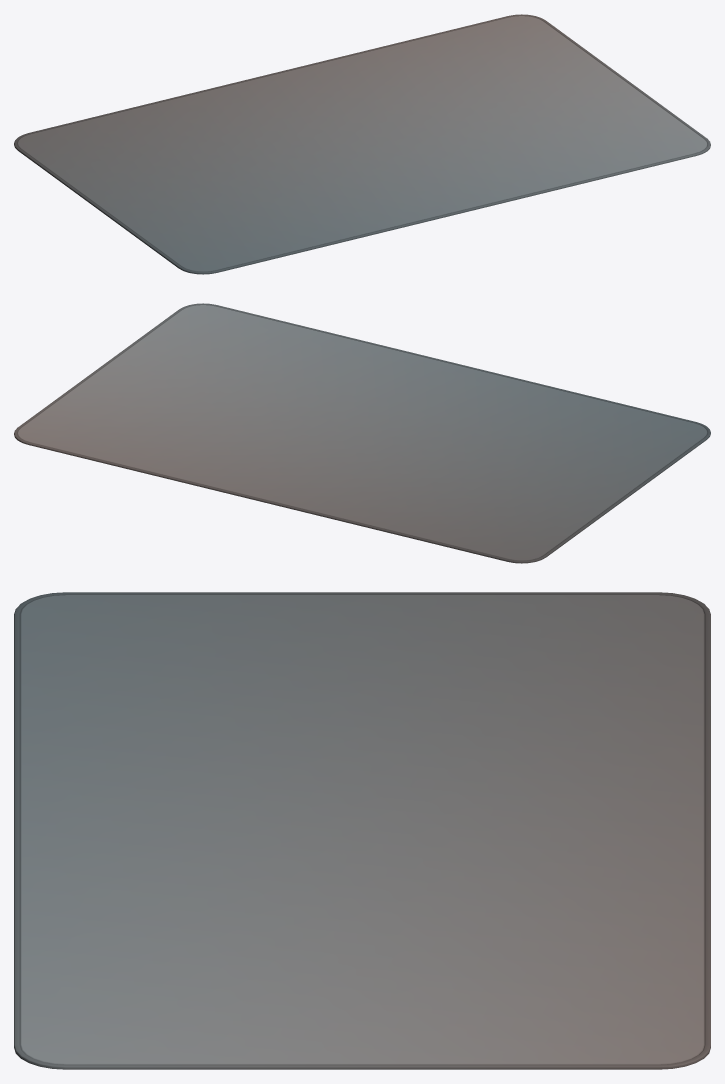
Rendered from Desk_Mat_01.glb.
3 renders of one model, top to bottom at view 1: azimuth 30°, elevation 25°; view 2: azimuth 150°, elevation 25°; view 3: azimuth 270°, elevation 25°, orthographic. The views are drawn at different scales.
Visible parts, largest first — view 1: Desk_Mat_01; view 2: Desk_Mat_01; view 3: Desk_Mat_01.
Boxes of the visible parts, bbox=[...] form: Desk_Mat_01: bbox=[14, 14, 710, 274]; Desk_Mat_01: bbox=[14, 303, 710, 563]; Desk_Mat_01: bbox=[14, 592, 710, 1069].
Size of the model in its own units: 1.11 by 0.00319 by 0.6913.
Materials: 1 (1 with a texture image).
